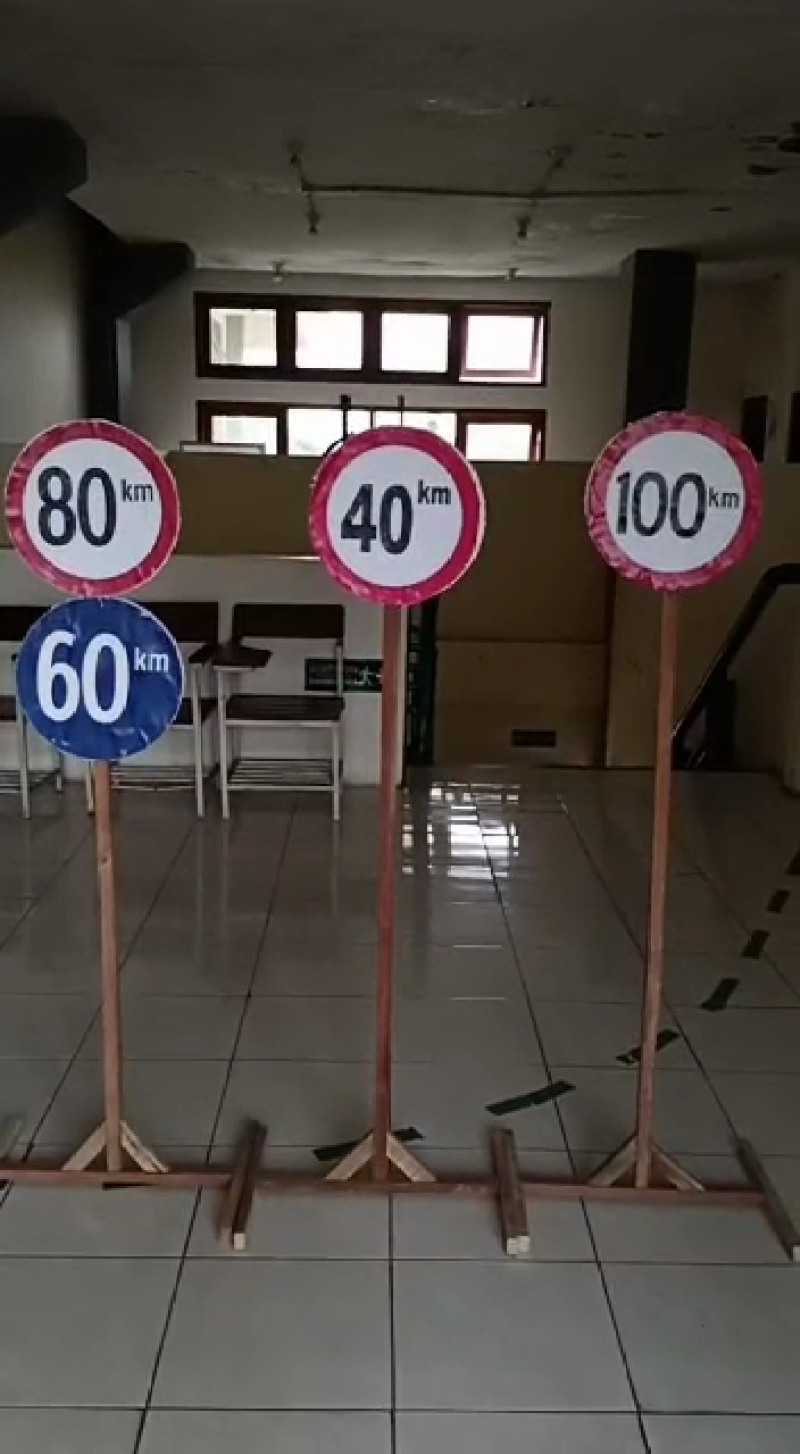batas maksimal 100kmperjam: (581, 405, 766, 605)
batas maksimal 40kmperjam: (303, 416, 485, 607)
batas maksimal 80kmperjam minimal 60kmperjam: (1, 411, 196, 764)
